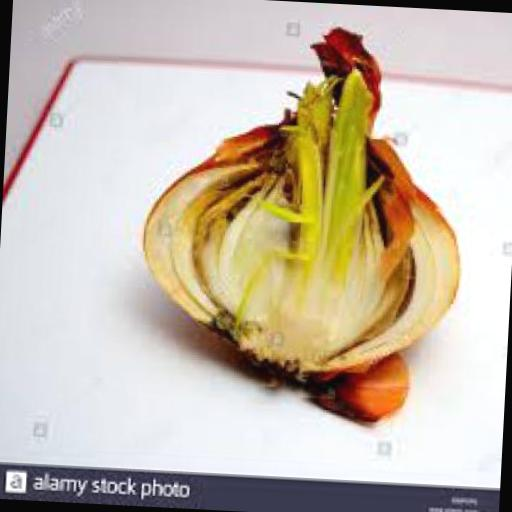biodegradable: (129, 12, 470, 392), (299, 342, 410, 424)
